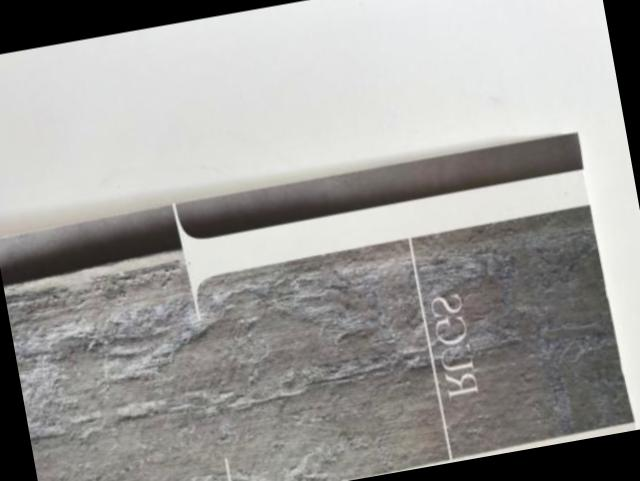cardboard paper: (0, 131, 633, 481)
